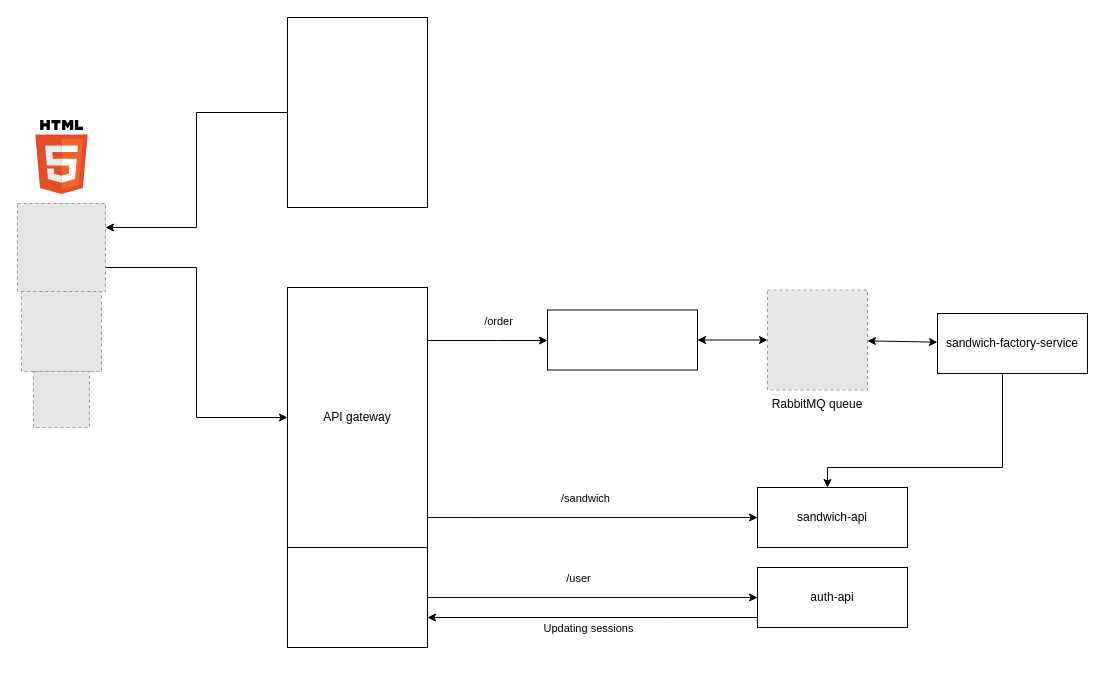
Image size: 1105x673. Some labels were removed from this diagram. Grey dashed boxes stand in for pictures. The shapes that lost their labels are listed below. From the top down, each one's box as (x1, y1, x2, y2) in pixels, then its label:
(286, 16, 428, 208): CDN
(546, 309, 698, 370): order-api
(286, 546, 428, 648): Authenticates, ratelimits and directs user requests
